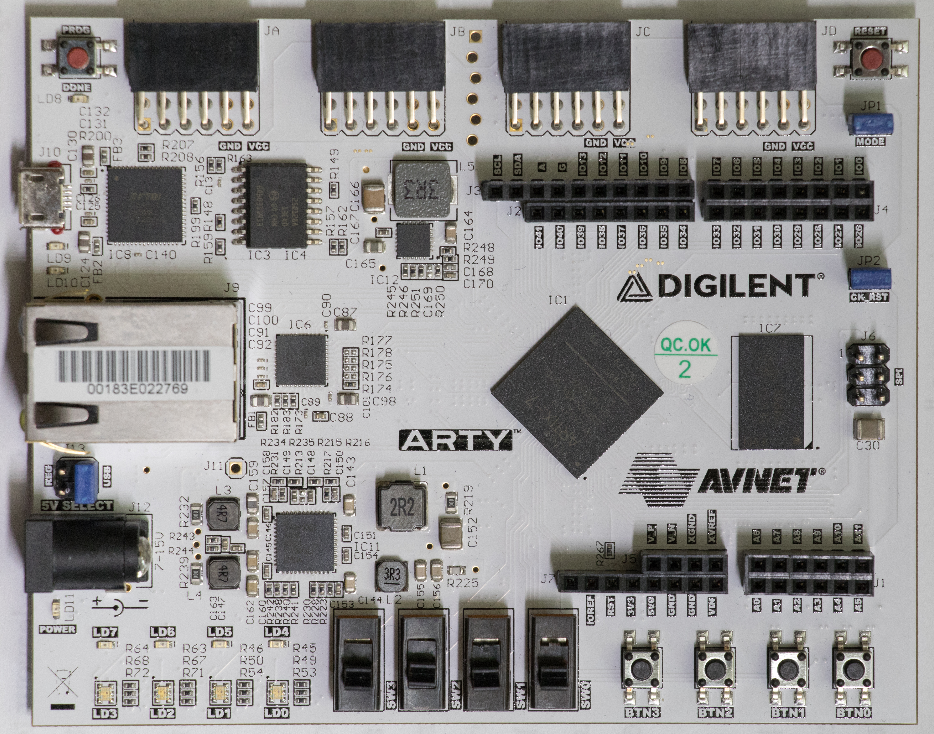Induktor: (391, 157, 454, 219), (376, 480, 427, 530), (205, 554, 242, 590), (375, 557, 409, 592), (205, 498, 239, 532)
